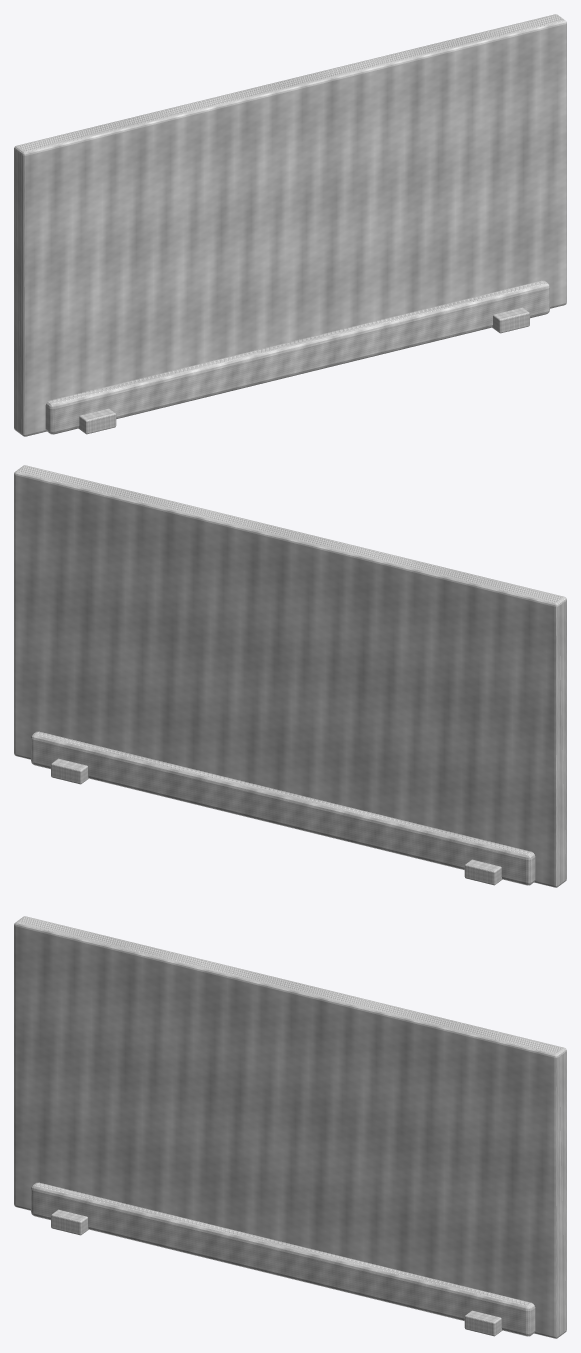
File: walls_variant_c.glb
The picture shows the model from 3 angles, top to bottom: view 1: azimuth 30°, elevation 25°; view 2: azimuth 150°, elevation 25°; view 3: azimuth 330°, elevation 25°; orthographic projection.
Parts seen in each view (by area): view 1: Wall panel.002, Foundation.002, Mounting foot.008, Mounting foot.010; view 2: Wall panel.002, Foundation.002, Mounting foot.009, Mounting foot.011; view 3: Wall panel.002, Foundation.002, Mounting foot.010, Mounting foot.008.
Boxes of the visible parts, x1,y1,x2,y2 form: Wall panel.002: (14,14,566,436); Foundation.002: (45,280,549,434); Mounting foot.008: (78,408,116,434); Mounting foot.010: (492,307,529,333); Wall panel.002: (14,465,566,887); Foundation.002: (31,731,535,885); Mounting foot.009: (464,859,502,885); Mounting foot.011: (51,758,88,784); Wall panel.002: (14,916,566,1338); Foundation.002: (31,1182,535,1336); Mounting foot.010: (464,1310,502,1336); Mounting foot.008: (51,1209,88,1235).
Size of what is drawn, in the model's own units: 8 by 4 by 0.906.
3 materials, 3 textured.
